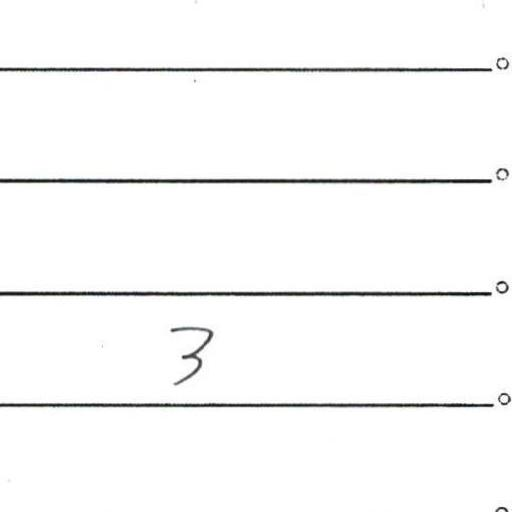ans: (165, 319, 214, 386)
